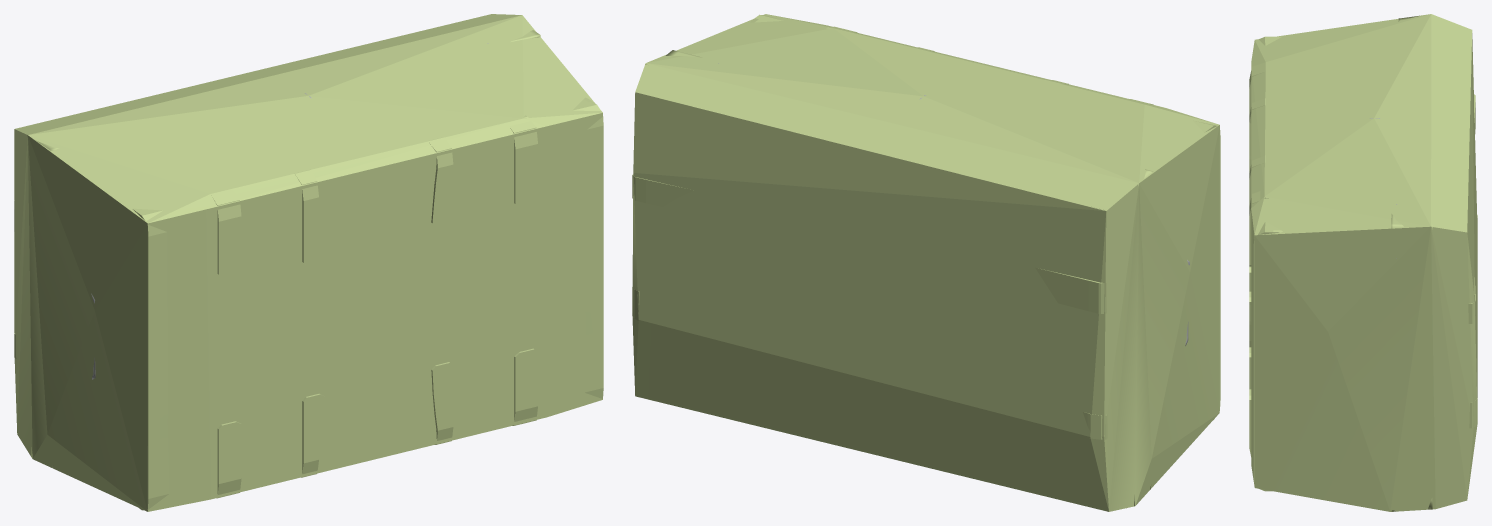
File: trunk_army.fbx
3 views of the same model, side by side, from view 1: azimuth 30°, elevation 25°; view 2: azimuth 150°, elevation 25°; view 3: azimuth 270°, elevation 25° (orthographic). The views are drawn at different scales.
Parts seen in each view (by area): view 1: c_TRUNK_ARMY, TRUNK_ARMY; view 2: c_TRUNK_ARMY, TRUNK_ARMY; view 3: c_TRUNK_ARMY, TRUNK_ARMY.
Part boxes in pixels (left/top/right/bottom): c_TRUNK_ARMY: left=14, top=14, right=602, bottom=511; TRUNK_ARMY: left=14, top=15, right=603, bottom=510; c_TRUNK_ARMY: left=632, top=14, right=1219, bottom=511; TRUNK_ARMY: left=632, top=14, right=1220, bottom=508; c_TRUNK_ARMY: left=1251, top=14, right=1477, bottom=511; TRUNK_ARMY: left=1249, top=15, right=1477, bottom=511.
Bounding box in the file's own units: 78.38 × 50.33 × 35.63.
